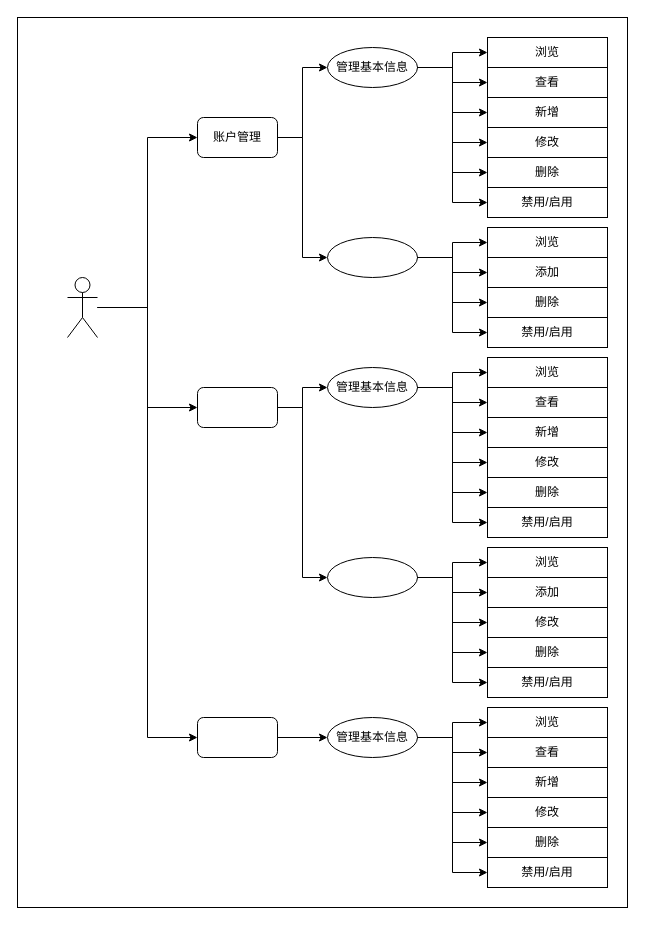
Image size: 645x925. Some labels were removed from this diagram. Each missing label, with the centre of its shape:
授权角色: the point at 372,257
授权资源: the point at 372,577
系统管理系统功能 （账户角色权限）: the point at 82,307
角色管理: the point at 237,407
资源管理: the point at 237,737
